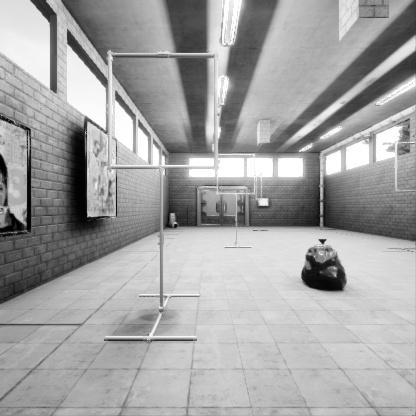gate: (114, 249, 224, 359), (218, 223, 257, 262), (398, 226, 416, 276), (256, 216, 262, 244)
